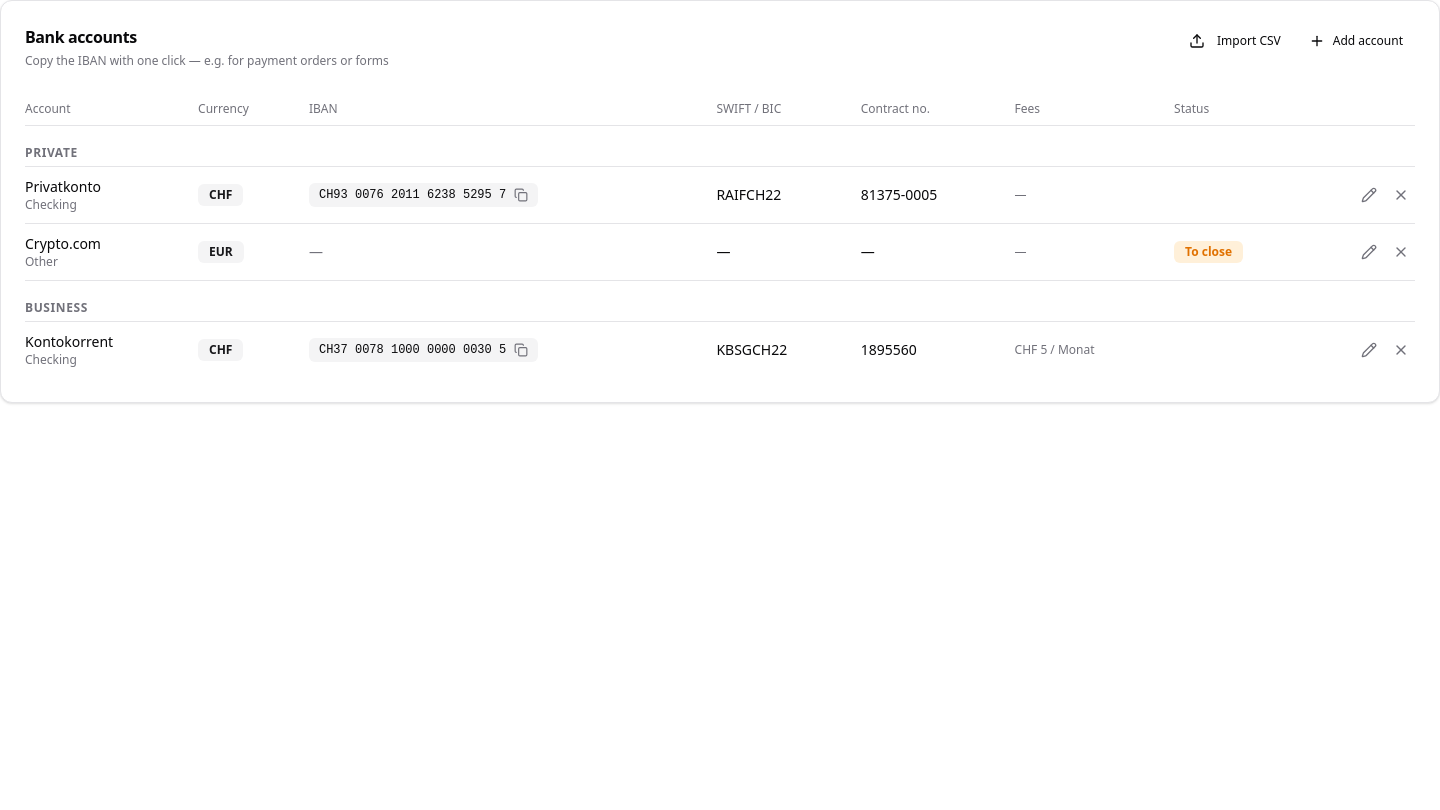
Scenario: BankAccountsCard › opens the create dialog from the header button
The image size is (1440, 810).
Click the button "Add account": click(1356, 41) x1=1297 y1=25 x2=1415 y2=57
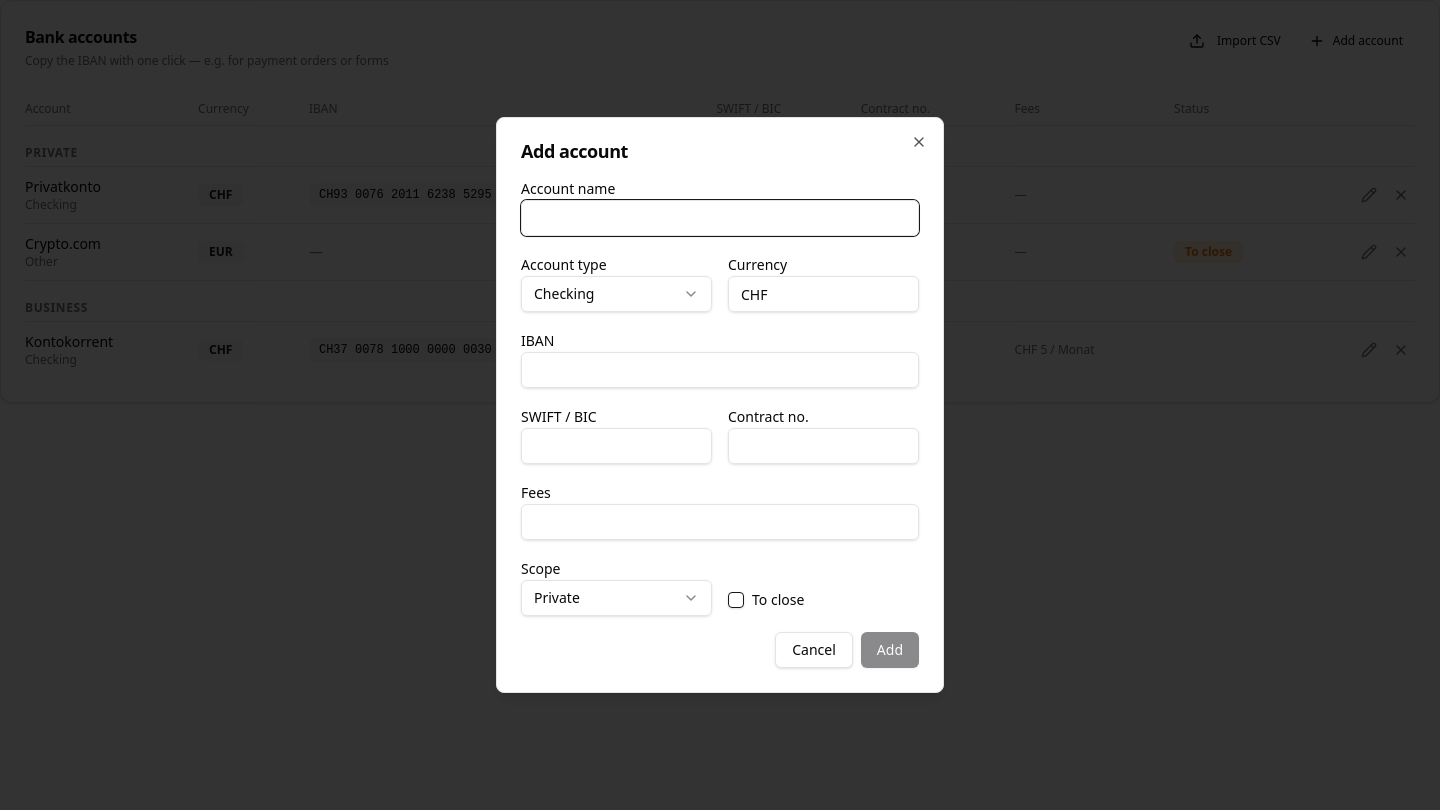
Now the heading "Add account" is shown, box x1=521 y1=139 x2=628 y2=163
